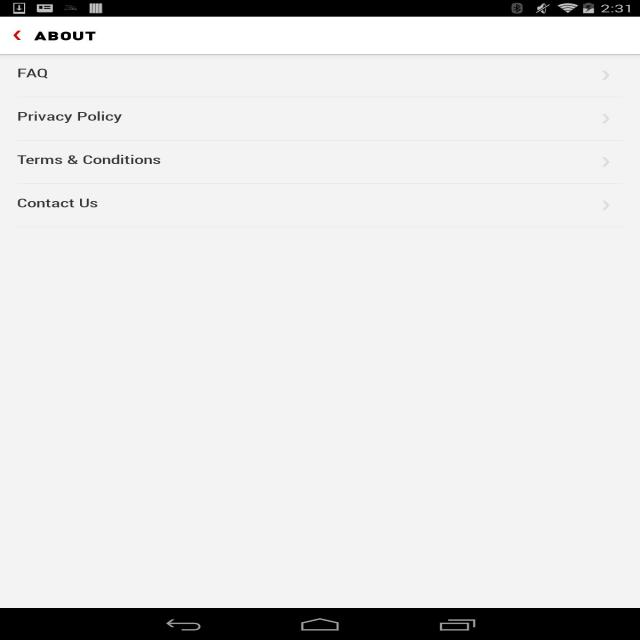button: (0, 141, 639, 183), (0, 54, 638, 96), (0, 99, 640, 140), (0, 184, 640, 225), (9, 24, 24, 46)
heading: (33, 28, 99, 44)
text: (15, 149, 162, 169), (15, 109, 124, 123), (15, 196, 100, 210), (13, 64, 52, 82)
